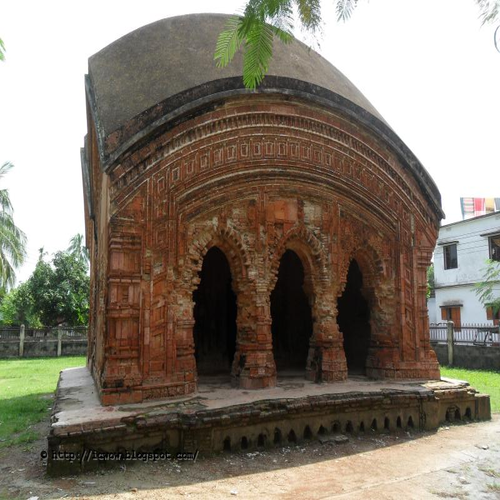Temple: (67, 12, 446, 393)
